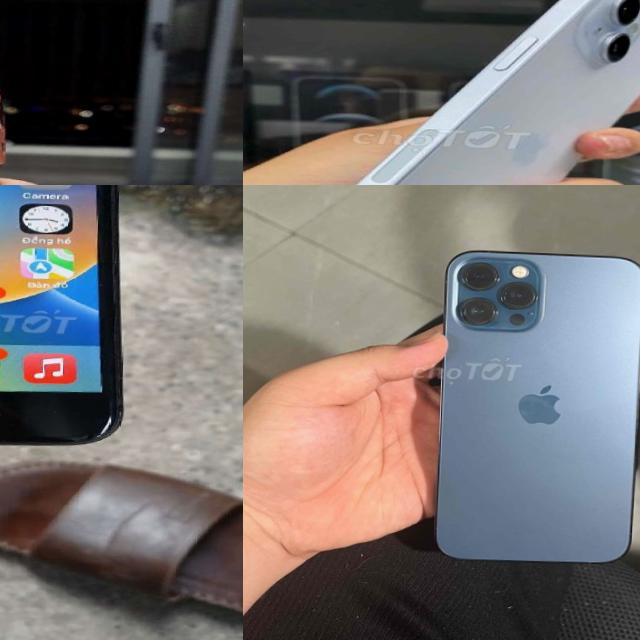gen_12_13: (433, 247, 640, 574)
gen_15: (262, 0, 640, 185)
gen_17: (0, 35, 69, 185)
gen_7_8: (0, 185, 120, 445)
